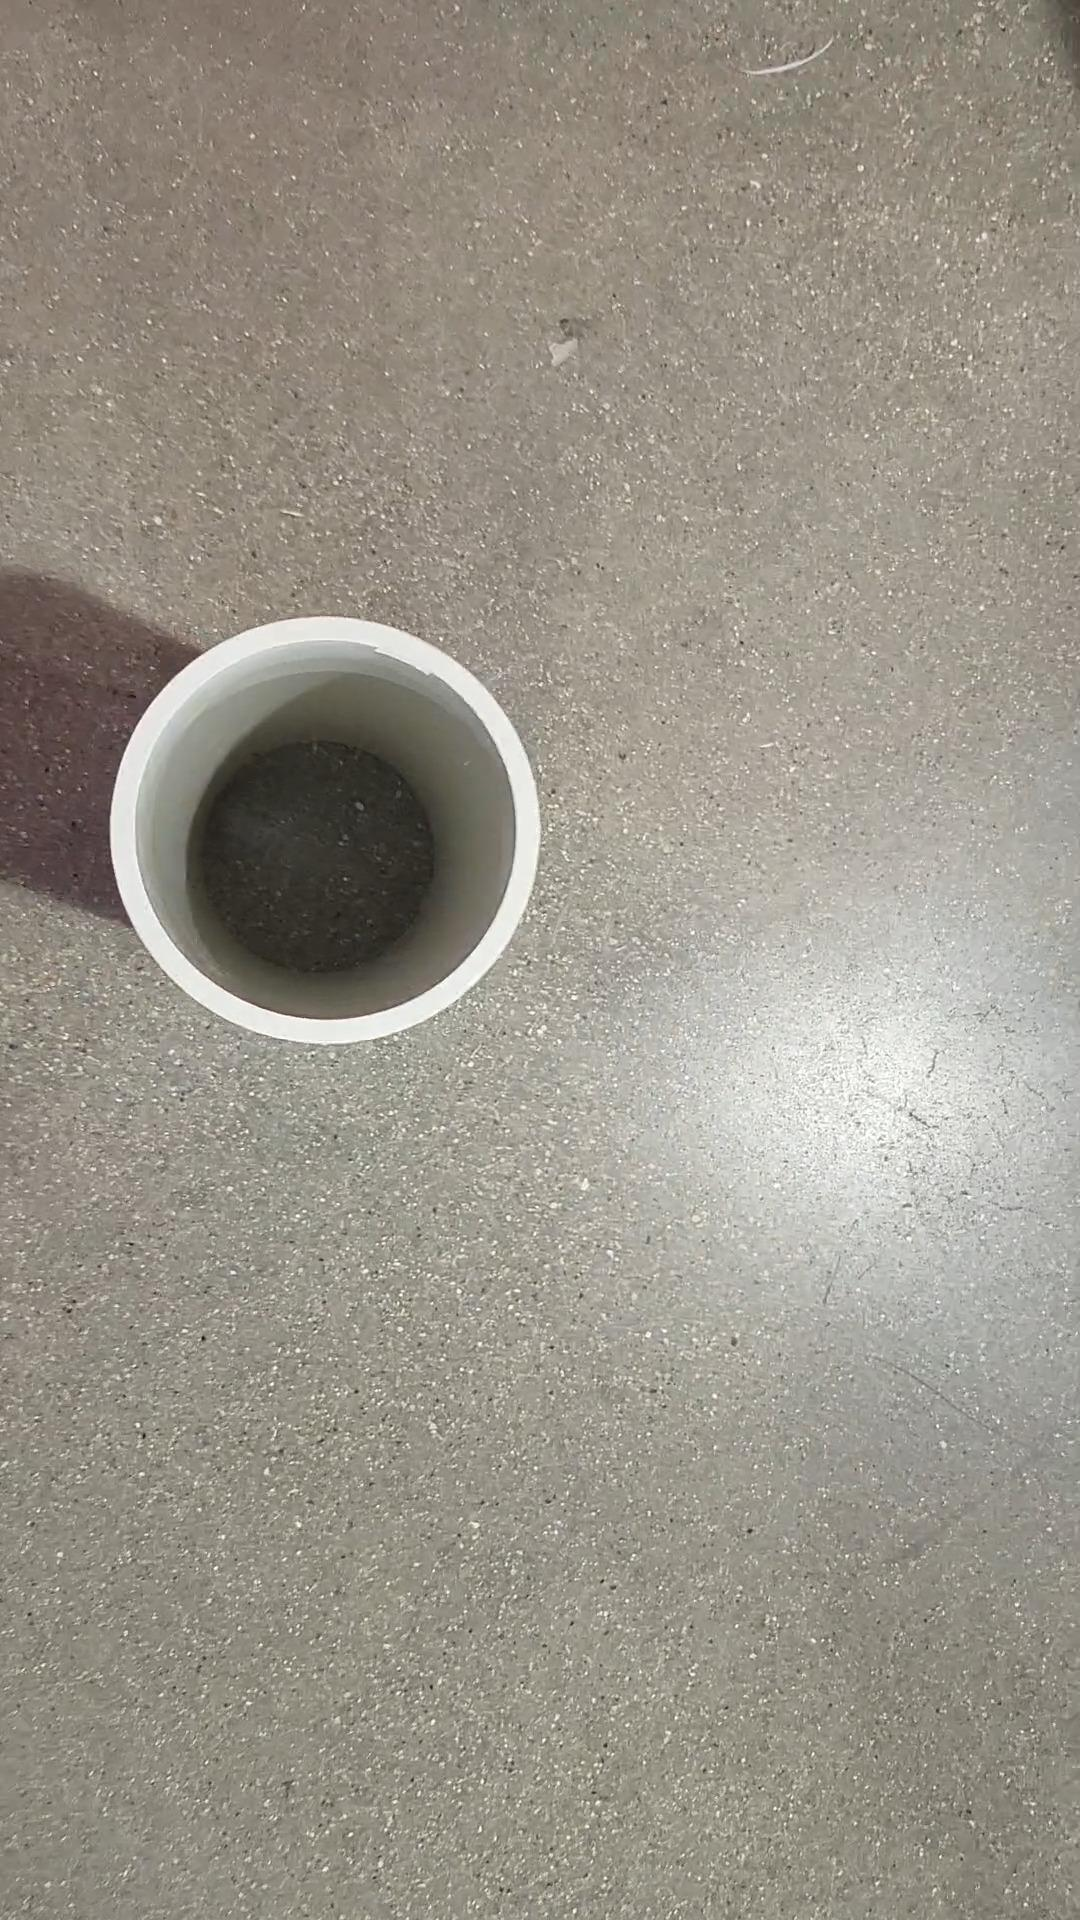coral: (96, 608, 550, 1050)
